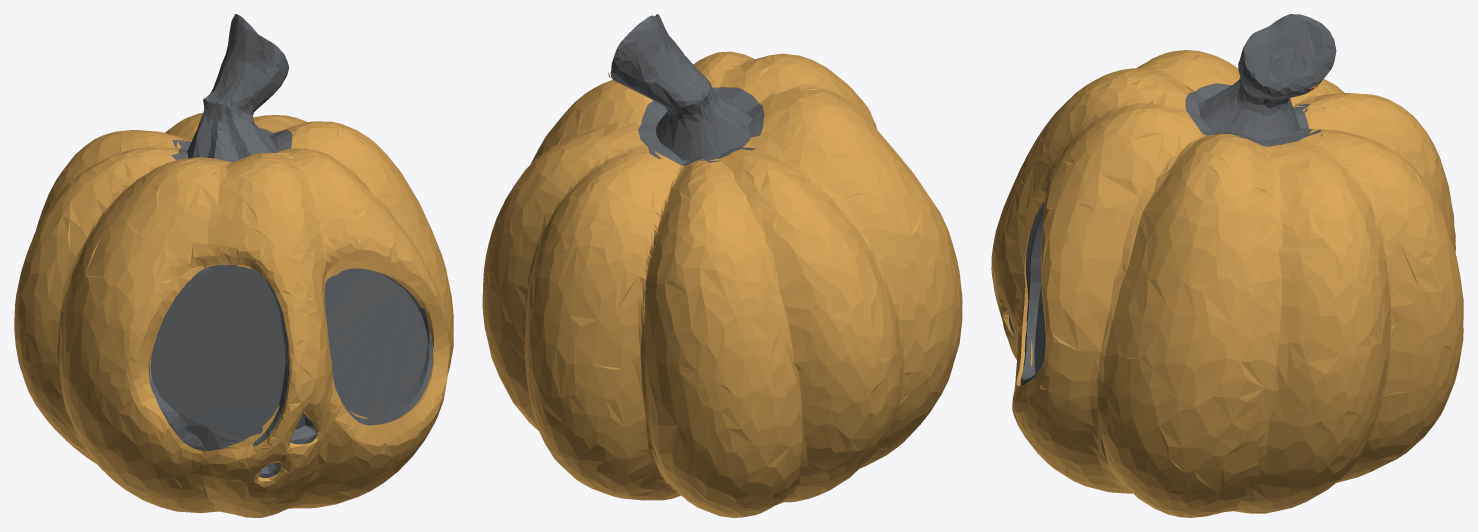
The model's file is JackOLanternE.glb.
3 renders of one model, left to right at view 1: azimuth 30°, elevation 25°; view 2: azimuth 150°, elevation 25°; view 3: azimuth 270°, elevation 25°, orthographic. The views are drawn at different scales.
Visible parts, largest first — view 1: Mesh_Mesh_head_geo.001_lambert2SG.001; view 2: Mesh_Mesh_head_geo.001_lambert2SG.001; view 3: Mesh_Mesh_head_geo.001_lambert2SG.001.
Part boxes in pixels (left/top/right/bottom): Mesh_Mesh_head_geo.001_lambert2SG.001: left=14, top=14, right=453, bottom=517; Mesh_Mesh_head_geo.001_lambert2SG.001: left=482, top=14, right=962, bottom=517; Mesh_Mesh_head_geo.001_lambert2SG.001: left=991, top=14, right=1463, bottom=517.
Size of the model in its own units: 10.16 by 11.02 by 9.99.
